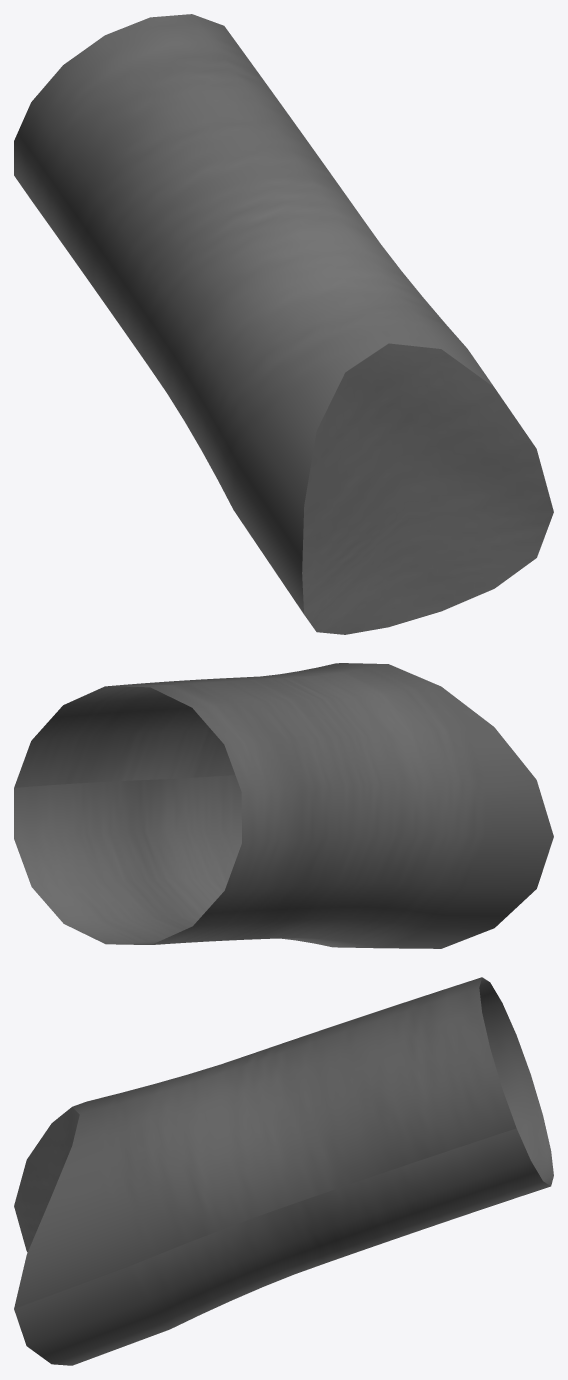
File: mastarmcurve_10x2_c0.obj
3 views of the same model, one above another, from view 1: azimuth 30°, elevation 25°; view 2: azimuth 150°, elevation 25°; view 3: azimuth 270°, elevation 25° (orthographic). The views are drawn at different scales.
Visible parts, largest first — view 1: mastarm_10x2_c0; view 2: mastarm_10x2_c0; view 3: mastarm_10x2_c0.
Boxes of the visible parts, x1=… form: mastarm_10x2_c0: x1=14, y1=14, x2=553, y2=634; mastarm_10x2_c0: x1=14, y1=663, x2=553, y2=948; mastarm_10x2_c0: x1=14, y1=977, x2=553, y2=1365.
Size of the model in its own units: 0.6272 by 1.04 by 1.39.
